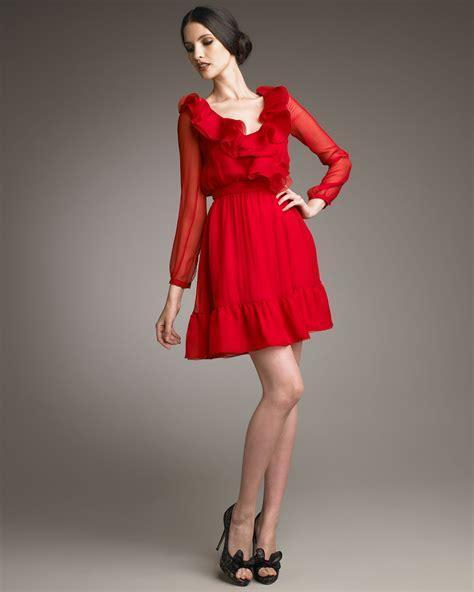dress: (171, 84, 351, 362)
